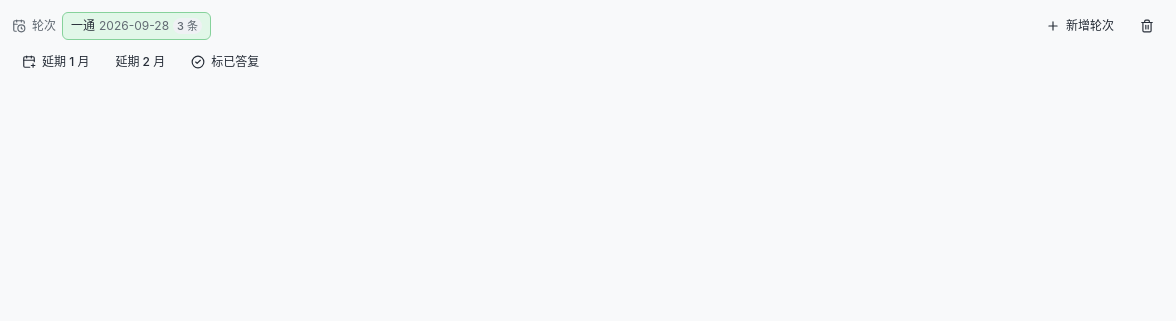
Test: R115-批29：新增轮次类型自动默认 › 挂载时 rounds 为空、轮次后到达 → 类型默认「后续通知」不冻成「一通」（错走 4 个月期限回归）
Click the button with test id "oa-round-add" at (1080, 26), box [1036,12,1124,40]
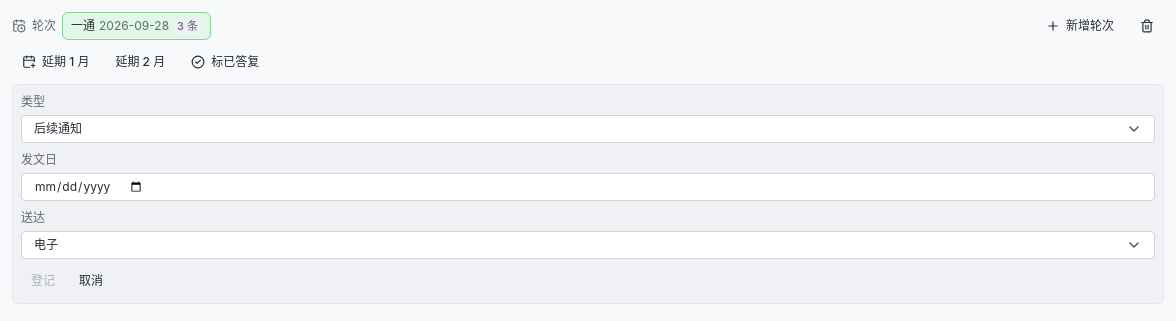
Result: the dropdown with test id "oa-round-kind" reads "后续通知" at [21,115,1155,143]
